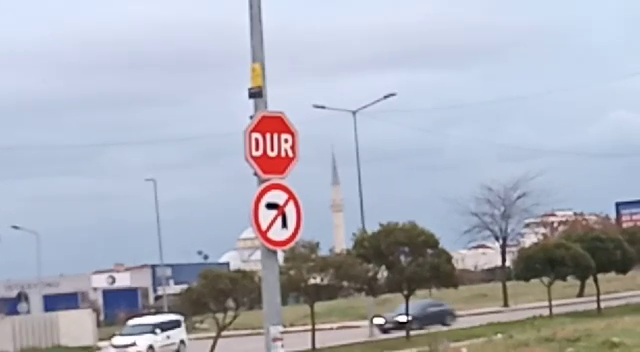no_left: (248, 181, 304, 252)
stop: (241, 108, 302, 182)
